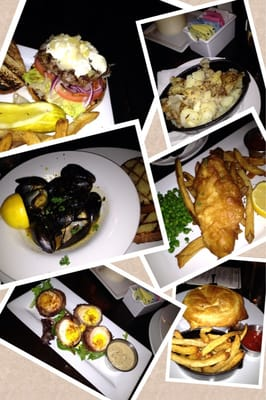soup: (22, 32, 110, 121)
